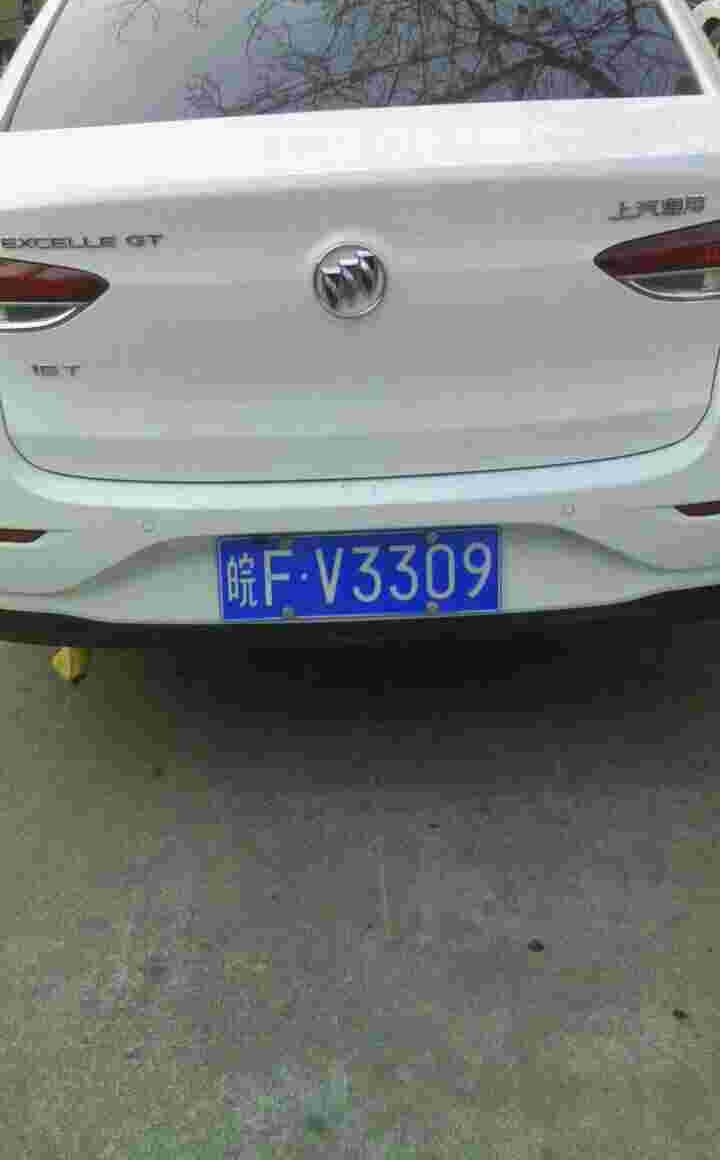license_plate: (213, 531, 505, 609)
